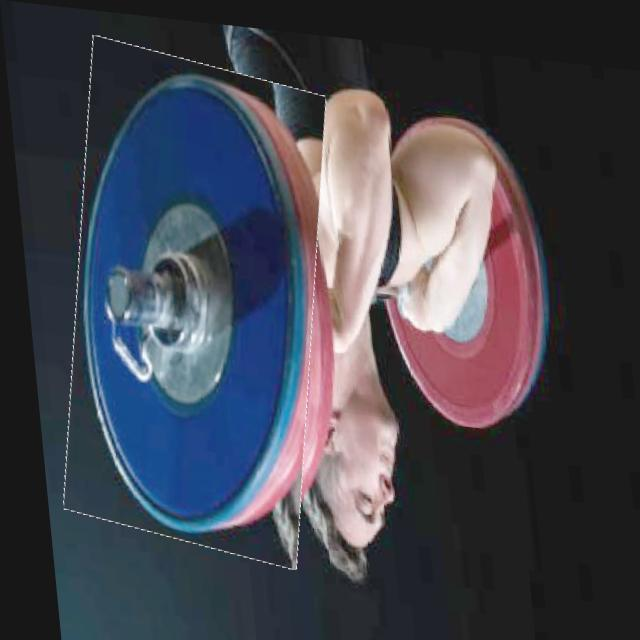barbell: (36, 36, 343, 563)
